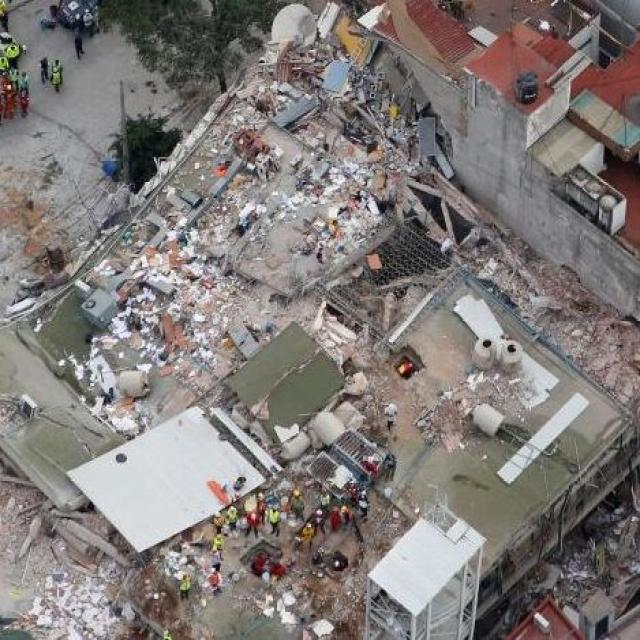collapsed_building: (0, 101, 577, 638)
